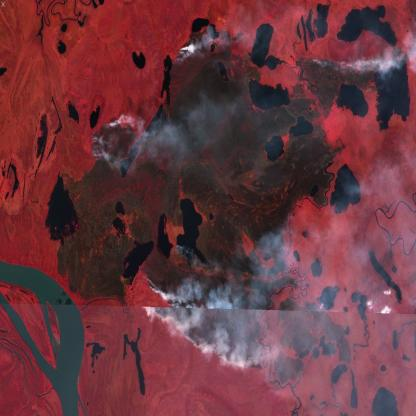fire: (89, 20, 416, 174), (138, 290, 267, 380)
